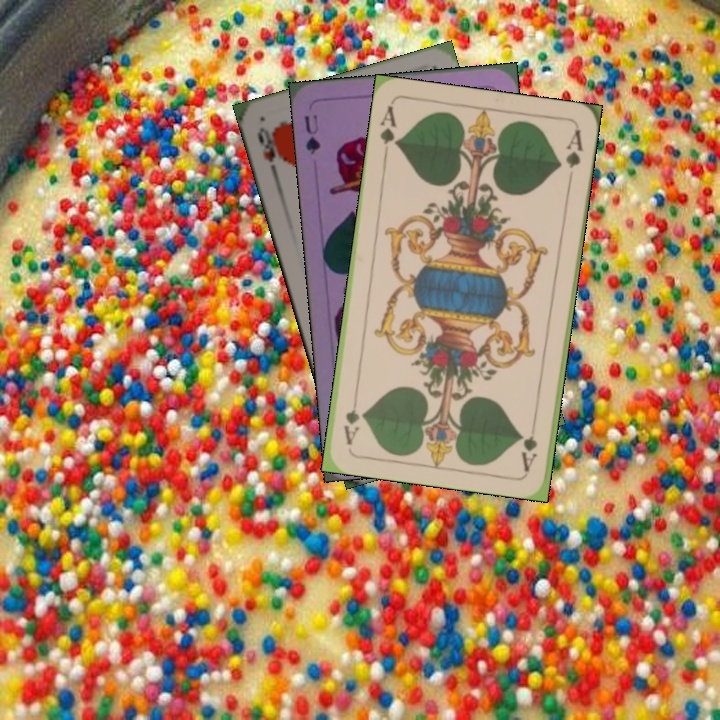GA: (376, 101, 401, 161), (518, 414, 540, 473)
GU: (300, 110, 323, 157)
HO: (253, 122, 283, 181)
